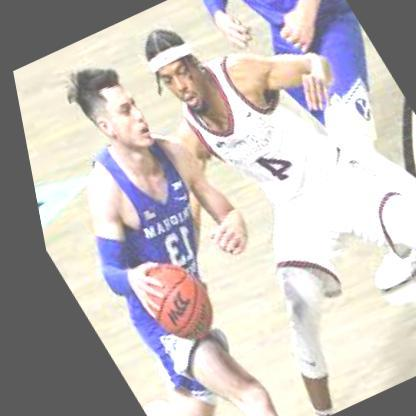basketball: (117, 254, 218, 351)
